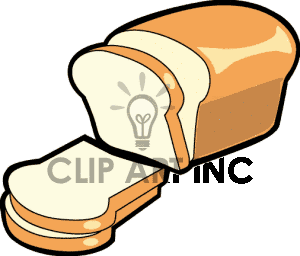slice of bread: (1, 2, 300, 255)
